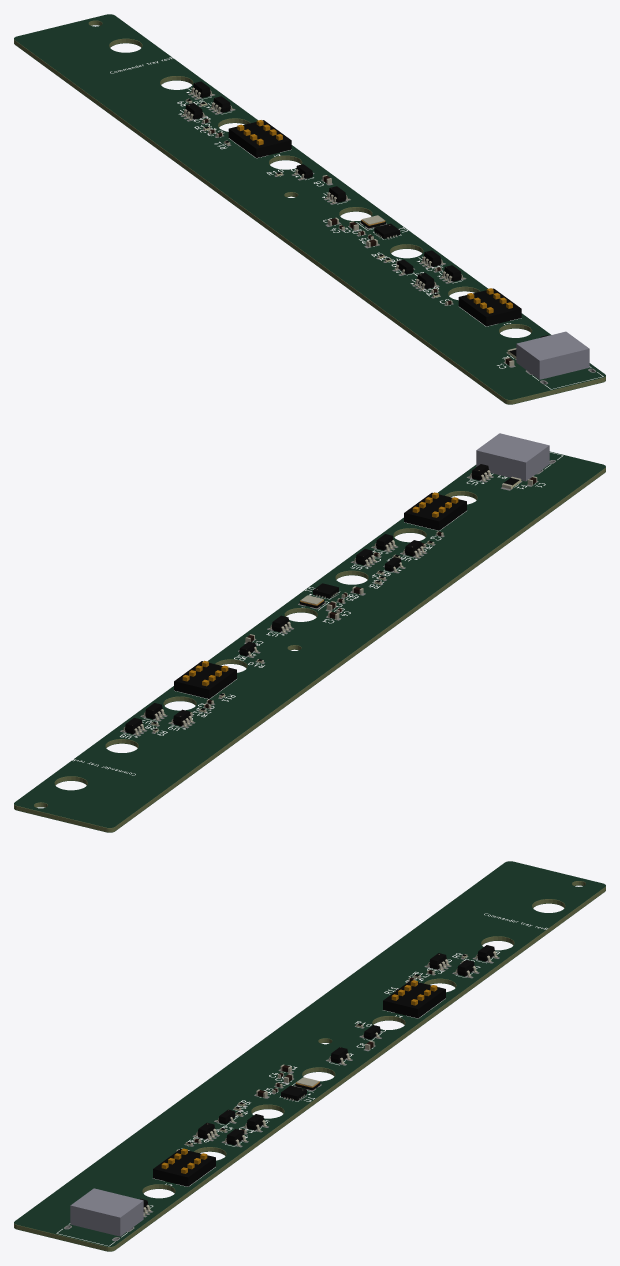
File: commander_tray.dae
The picture shows the model from 3 angles, top to bottom: view 1: azimuth 30°, elevation 25°; view 2: azimuth 150°, elevation 25°; view 3: azimuth 330°, elevation 25°; orthographic projection.
Parts seen in each view (by area): view 1: part_02, part_04, part_00, part_08, part_01, part_09, part_13, part_10, part_06; view 2: part_02, part_04, part_00, part_08, part_01, part_09, part_13, part_10, part_06; view 3: part_02, part_04, part_00, part_08, part_01, part_09, part_13, part_10, part_06.
Boxes of the visible parts, bbox=[...] form: part_02: bbox=[14, 14, 605, 404]; part_04: bbox=[14, 20, 605, 404]; part_00: bbox=[187, 99, 521, 356]; part_08: bbox=[516, 331, 589, 379]; part_01: bbox=[185, 81, 548, 337]; part_09: bbox=[182, 87, 516, 366]; part_13: bbox=[110, 57, 603, 389]; part_10: bbox=[237, 120, 512, 313]; part_06: bbox=[181, 94, 596, 384]; part_02: bbox=[14, 451, 605, 832]; part_04: bbox=[14, 467, 605, 832]; part_00: bbox=[152, 478, 519, 730]; part_08: bbox=[476, 433, 549, 481]; part_01: bbox=[125, 464, 488, 734]; part_09: bbox=[122, 470, 537, 735]; part_13: bbox=[72, 452, 563, 775]; part_10: bbox=[182, 492, 458, 686]; part_06: bbox=[138, 460, 555, 733]; part_02: bbox=[14, 861, 605, 1251]; part_04: bbox=[14, 881, 605, 1251]; part_00: bbox=[153, 954, 466, 1186]; part_08: bbox=[70, 1188, 143, 1236]; part_01: bbox=[140, 945, 494, 1211]; part_09: bbox=[143, 951, 497, 1215]; part_13: bbox=[56, 913, 547, 1246]; part_10: bbox=[161, 980, 437, 1173]; part_06: bbox=[64, 956, 493, 1241].
Bounding box in the file's own units: 18 × 154 × 4.1.
